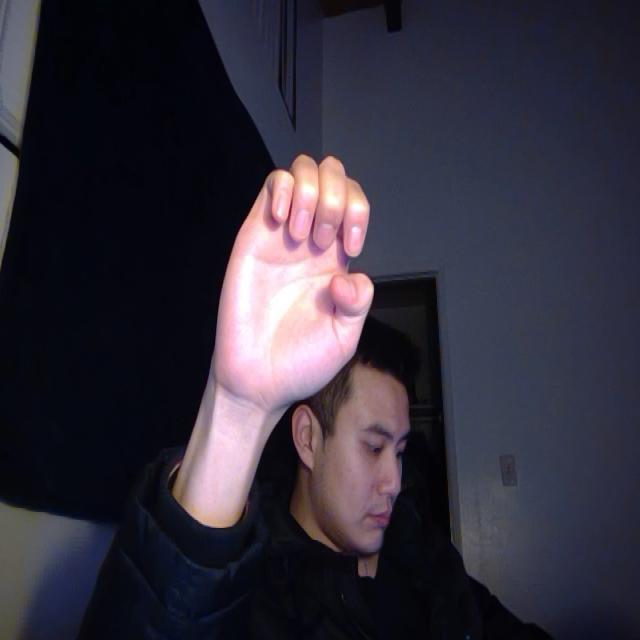E: (169, 115, 402, 471)
